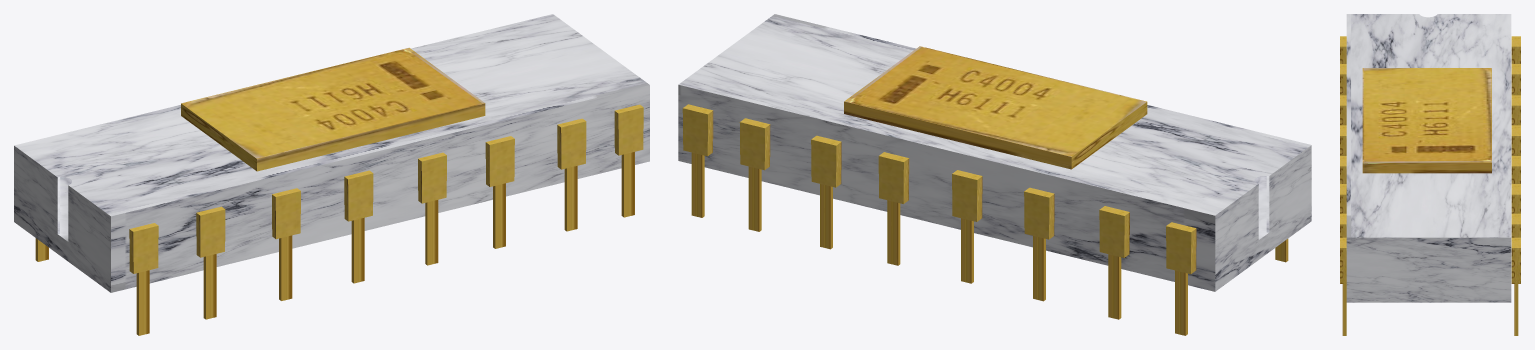
The model's file is microprocesador.glb.
3 views of the same model, side by side, from view 1: azimuth 30°, elevation 25°; view 2: azimuth 150°, elevation 25°; view 3: azimuth 270°, elevation 25° (orthographic). The views are drawn at different scales.
Visible parts, largest first — view 1: Cube, Cube.001, Cube.017, Cube.010, Cube.016, Cube.011, Cube.014, Cube.015, Cube.013, Cube.012; view 2: Cube, Cube.001, Cube.003, Cube.009, Cube.006, Cube.008, Cube.007, Cube.004, Cube.002, Cube.005; view 3: Cube, Cube.001, Cube.009, Cube.010, Cube.003, Cube.005, Cube.004, Cube.007, Cube.002, Cube.006, Cube.008, Cube.016 (+6 smaller).
Boxes of the visible parts, x1,y1,x2,y2 form: Cube: (14,14,649,292); Cube.001: (181,47,485,171); Cube.017: (129,223,158,335); Cube.010: (614,104,643,217); Cube.016: (196,206,225,319); Cube.011: (557,118,586,231); Cube.014: (344,170,373,283); Cube.015: (272,188,300,300); Cube.013: (418,152,446,265); Cube.012: (485,136,514,248); Cube: (678,14,1311,291); Cube.001: (844,46,1147,169); Cube.003: (1099,206,1129,319); Cube.009: (682,104,713,217); Cube.006: (878,152,909,265); Cube.008: (739,118,770,231); Cube.007: (811,135,841,249); Cube.004: (1024,187,1054,301); Cube.002: (1166,222,1196,335); Cube.005: (952,170,982,283); Cube: (1346,14,1511,302); Cube.001: (1362,68,1491,173); Cube.009: (1511,237,1520,335); Cube.010: (1340,237,1346,335); Cube.003: (1511,64,1520,95); Cube.005: (1511,125,1520,155); Cube.004: (1511,95,1520,125); Cube.007: (1511,184,1520,213); Cube.002: (1511,36,1520,63); Cube.006: (1511,156,1520,183); Cube.008: (1511,213,1520,237); Cube.016: (1340,64,1346,95).
Size of the model in its own units: 4.72 by 1.14 by 1.61.
18 materials, 18 textured.
